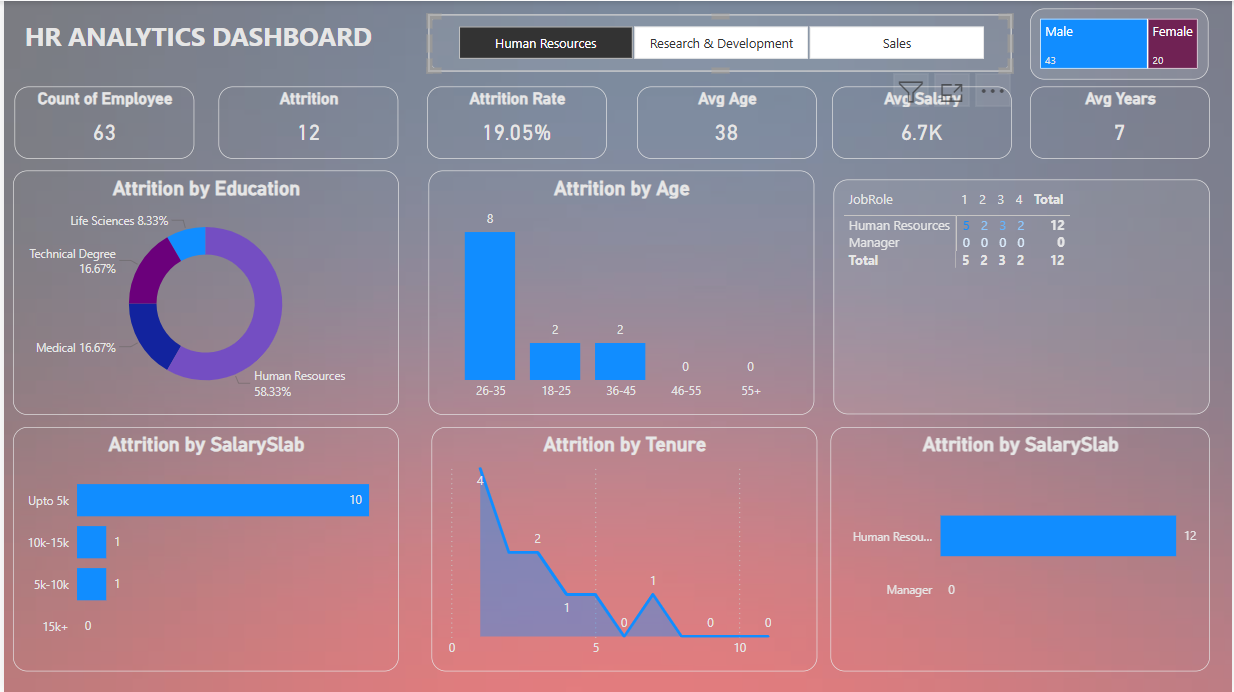

What the dashboard file says about the page in this screenshot:
{"tool":"powerbi","page":{"name":"Page 1","canvas":[1280,720],"ordinal":0},"visuals":[{"type":"card","title":"Count of Employee","fields":{"Values":["Count(HR_Analytics.EmpID)"]},"box":[10.3,89,187.5,75.4],"z":0},{"type":"card","title":"Attrition","fields":{"Values":["Sum(HR_Analytics.AttritionCount)"]},"box":[223.6,89,187.5,75.4],"z":1000},{"type":"card","title":"Attrition Rate","fields":{"Values":["HR_Analytics.AttritionRate"]},"box":[441.3,89,187.3,75.2],"z":2000},{"type":"card","title":"Avg Age","fields":{"Values":["Avg(HR_Analytics.Age)"]},"box":[658.9,89,187.3,75.2],"z":3000},{"type":"card","title":"Avg Salary","fields":{"Values":["Avg(HR_Analytics.MonthlyIncome)"]},"box":[862.2,89,187.3,75.2],"z":4000},{"type":"card","title":"Avg Years","fields":{"Values":["Avg(HR_Analytics.YearsAtCompany)"]},"box":[1068.7,89,187.3,75.2],"z":5000},{"type":"donutChart","title":"Attrition by Education","fields":{"Category":["HR_Analytics.EducationField"],"Y":["Sum(HR_Analytics.AttritionCount)"]},"box":[9.6,176.1,401.8,254.5],"z":6000},{"type":"columnChart","title":"Attrition by Age","fields":{"Category":["HR_Analytics.AgeGroup"],"Y":["Sum(HR_Analytics.AttritionCount)"]},"box":[441.8,176.1,401.8,254.5],"z":7000},{"type":"pivotTable","fields":{"Rows":["HR_Analytics.JobRole"],"Columns":["HR_Analytics.JobSatisfaction"],"Values":["Sum(HR_Analytics.AttritionCount)"]},"box":[864.4,185.7,392.2,244.9],"z":8000},{"type":"barChart","title":"Attrition by SalarySlab","fields":{"Category":["HR_Analytics.SalarySlab"],"Y":["Sum(HR_Analytics.AttritionCount)"]},"box":[9.6,443.4,401.8,254.5],"z":9000},{"type":"areaChart","title":"Attrition by Tenure","fields":{"Category":["HR_Analytics.YearsAtCompany"],"Y":["Sum(HR_Analytics.AttritionCount)"]},"box":[445,443.4,401.8,254.5],"z":10000},{"type":"barChart","title":"Attrition by SalarySlab","fields":{"Category":["HR_Analytics.JobRole"],"Y":["Sum(HR_Analytics.AttritionCount)"]},"box":[861.2,443.4,395.4,254.5],"z":11000},{"type":"treemap","fields":{"Group":["HR_Analytics.Gender"],"Values":["CountNonNull(HR_Analytics.Attrition)"]},"box":[1069,8,186,74],"z":12000},{"type":"slicer","fields":{"Values":["HR_Analytics.Department"]},"box":[441.8,14.4,608.3,59.2],"z":13000},{"type":"textbox","box":[9.6,12.8,385.8,65.6],"z":14000}]}

Visuals, with their boxes in screenshot pixels (x1, y1, x2, y2), scaled from the page's 1280x720 canvas onto the 1234x692 screenshot:
"Count of Employee" card: Rect(10, 86, 191, 158)
"Attrition" card: Rect(216, 86, 396, 158)
"Attrition Rate" card: Rect(425, 86, 606, 158)
"Avg Age" card: Rect(635, 86, 816, 158)
"Avg Salary" card: Rect(831, 86, 1012, 158)
"Avg Years" card: Rect(1030, 86, 1211, 158)
"Attrition by Education" donutChart: Rect(9, 169, 397, 414)
"Attrition by Age" columnChart: Rect(426, 169, 813, 414)
pivotTable - HR_Analytics.JobRole x HR_Analytics.JobSatisfaction: Rect(833, 178, 1211, 414)
"Attrition by SalarySlab" barChart: Rect(9, 426, 397, 671)
"Attrition by Tenure" areaChart: Rect(429, 426, 816, 671)
"Attrition by SalarySlab" barChart: Rect(830, 426, 1211, 671)
treemap - HR_Analytics.Gender x CountNonNull(HR_Analytics.Attrition): Rect(1031, 8, 1210, 79)
slicer - HR_Analytics.Department: Rect(426, 14, 1012, 71)
textbox: Rect(9, 12, 381, 75)
